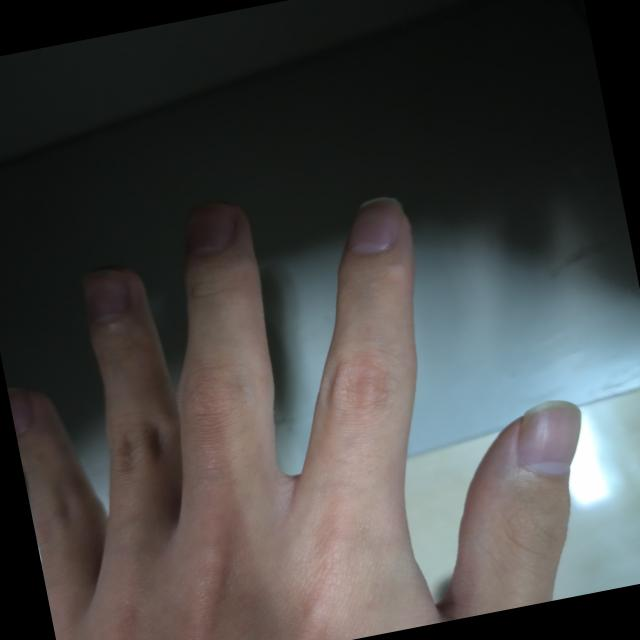Nail: (518, 400, 583, 474), (350, 198, 401, 254), (85, 270, 132, 321), (189, 204, 235, 253), (11, 390, 31, 434)
